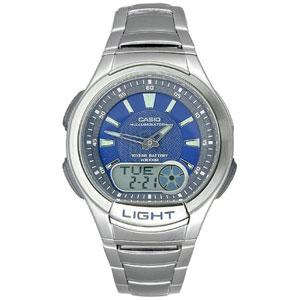watch: (68, 53, 230, 245)
